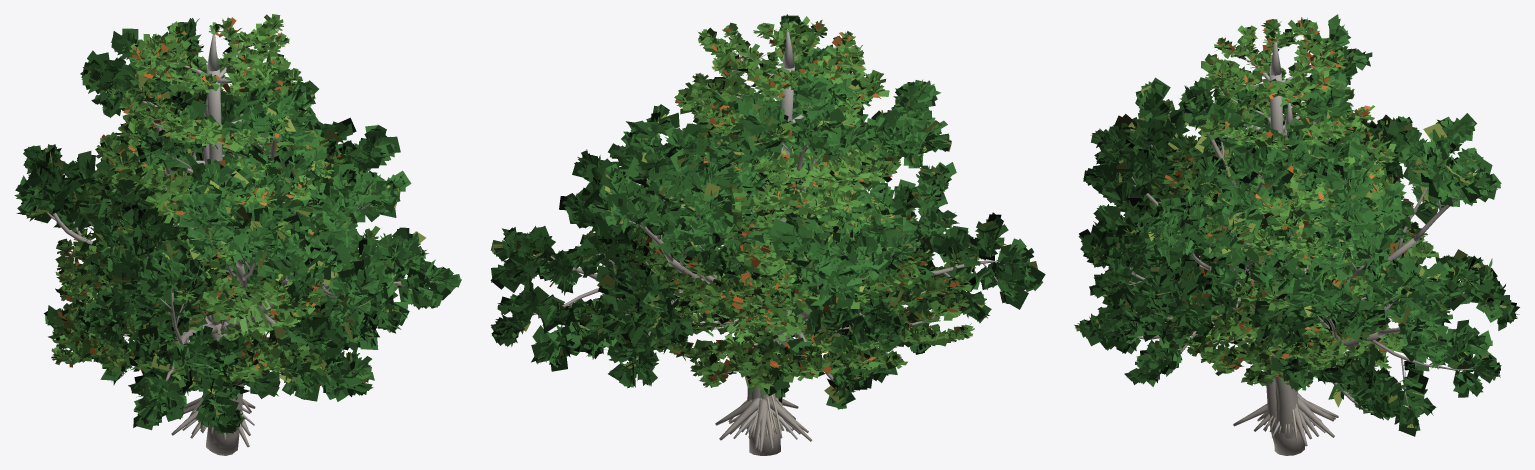
Rendered from forest_trees.glb.
3 views of the same model, side by side, from view 1: azimuth 30°, elevation 25°; view 2: azimuth 150°, elevation 25°; view 3: azimuth 270°, elevation 25° (orthographic). The views are drawn at different scales.
Visible parts, largest first — view 1: Taka1Leaves, Taka1Leaves_lod, Bad2Leaves, Taka2Leaves, Bad2Leaves_lod, Taka2Leaves_lod, Taka0Leaves, Taka0Leaves_lod, Bad1Leaves_lod, Bad1Leaves, Taka1Bark, Bad2Bark (+3 smaller); view 2: Taka2Leaves, Taka2Leaves_lod, Bad2Leaves_lod, Bad2Leaves, Taka1Leaves, Taka1Leaves_lod, Bad1Leaves_lod, Bad1Leaves, Bad0Leaves_lod, Bad0Leaves, Taka0Leaves, Taka0Leaves_lod (+3 smaller); view 3: Taka2Leaves, Taka2Leaves_lod, Bad2Leaves_lod, Bad2Leaves, Taka0Leaves, Taka1Leaves, Taka0Leaves_lod, Taka1Leaves_lod, Taka2Bark, Bad1Leaves_lod, Bad1Leaves, Bad0Leaves_lod (+5 smaller).
Boxes of the visible parts, x1,y1,x2,y2 form: Taka1Leaves: (53, 31, 461, 434); Taka1Leaves_lod: (62, 28, 455, 433); Bad2Leaves: (51, 16, 406, 390); Taka2Leaves: (15, 18, 395, 382); Bad2Leaves_lod: (51, 14, 401, 387); Taka2Leaves_lod: (14, 18, 400, 385); Taka0Leaves: (78, 145, 426, 343); Taka0Leaves_lod: (77, 145, 426, 344); Bad1Leaves_lod: (48, 113, 336, 381); Bad1Leaves: (52, 113, 329, 377); Taka1Bark: (142, 99, 401, 455); Bad2Bark: (101, 29, 304, 430); Taka2Leaves: (490, 18, 951, 409); Taka2Leaves_lod: (490, 14, 949, 409); Bad2Leaves_lod: (583, 16, 975, 382); Bad2Leaves: (587, 18, 972, 379); Taka1Leaves: (703, 72, 1041, 354); Taka1Leaves_lod: (707, 75, 1045, 353); Bad1Leaves_lod: (614, 93, 913, 395); Bad1Leaves: (617, 90, 912, 392); Bad0Leaves_lod: (653, 187, 901, 359); Bad0Leaves: (653, 188, 899, 360); Taka0Leaves: (621, 131, 923, 345); Taka0Leaves_lod: (617, 131, 921, 351); Taka2Leaves: (1084, 80, 1519, 430); Taka2Leaves_lod: (1083, 77, 1519, 436); Bad2Leaves_lod: (1108, 17, 1464, 375); Bad2Leaves: (1107, 19, 1461, 373); Taka0Leaves: (1112, 185, 1390, 347); Taka1Leaves: (1074, 18, 1385, 384); Taka0Leaves_lod: (1113, 186, 1392, 354); Taka1Leaves_lod: (1079, 14, 1386, 386); Taka2Bark: (1131, 126, 1456, 455); Bad1Leaves_lod: (1164, 97, 1427, 369); Bad1Leaves: (1165, 96, 1450, 371); Bad0Leaves_lod: (1165, 213, 1391, 385).
Size of what is drawn, in the model's own units: 16.24 by 17.31 by 16.91.
